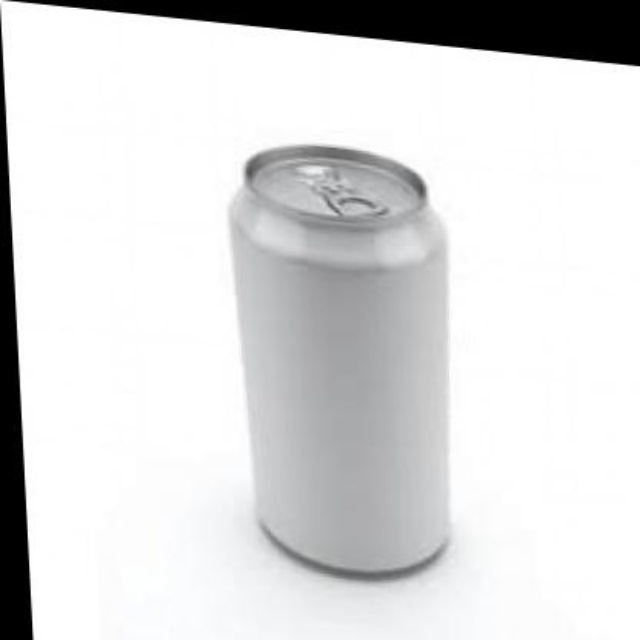trash: (231, 145, 446, 571)
